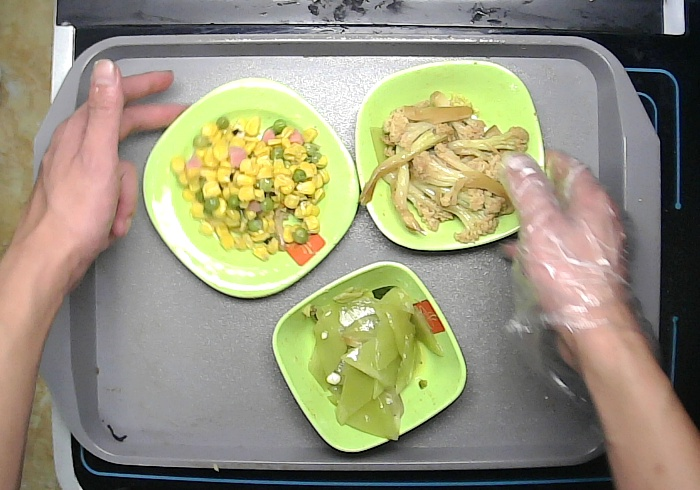SHKJ-Lv_Se_Cai_Die: (354, 60, 549, 251)
SHKJ-Lv_Se_Si_Fang_Cai_Die: (142, 74, 361, 301)
SHKJ-Lv_Se_Xiao_Fang_Die: (270, 259, 467, 453)
